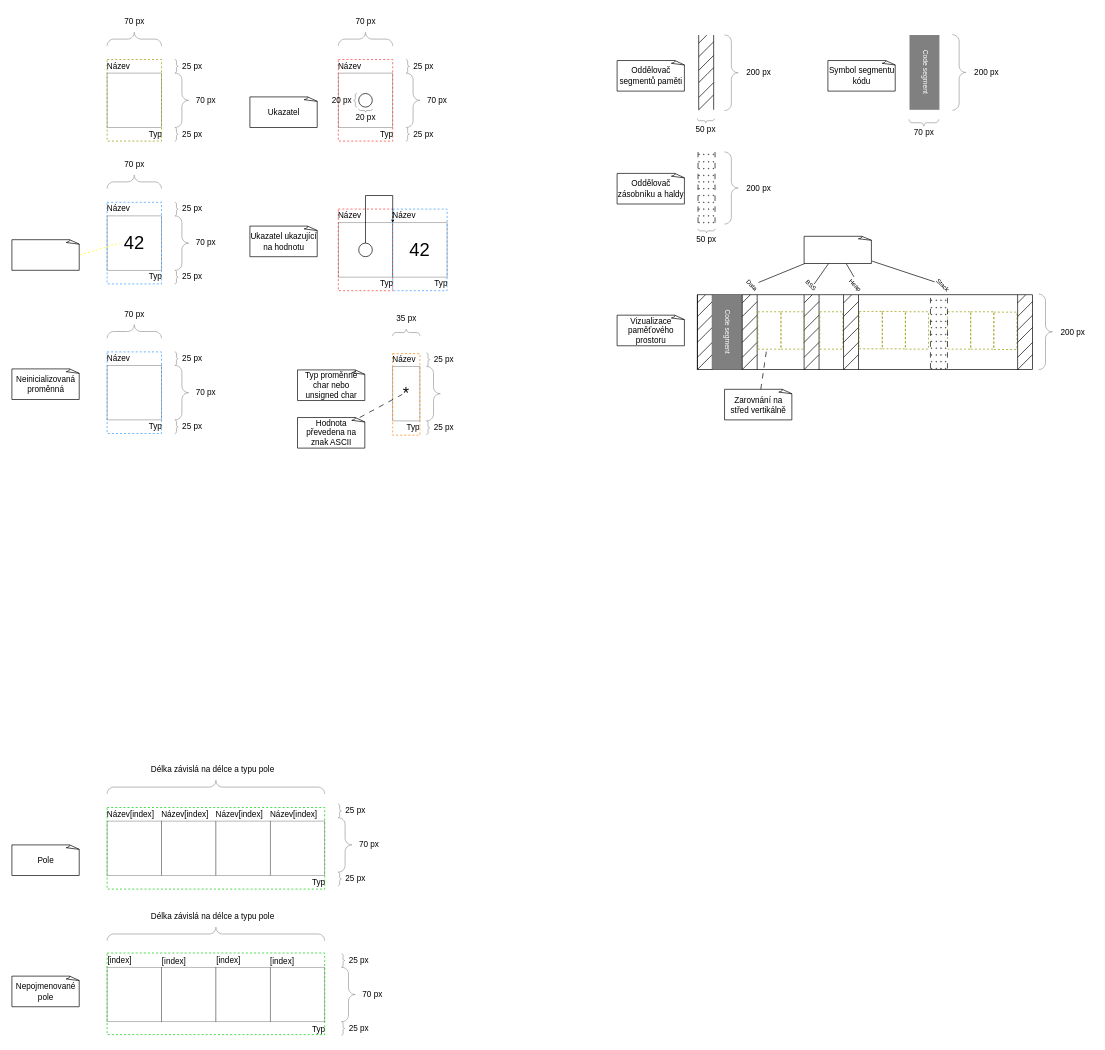
Some shapes in this 1105 by 1050 pixel diagram are drawn without their labels. The shapes that lost their labels are listed below. From the top down, each one's centre as x and y in pixels, then its label:
At pixel 45 254: "Hodnota proměnné".
At pixel 837 250: "Štítky datových segmentů".
